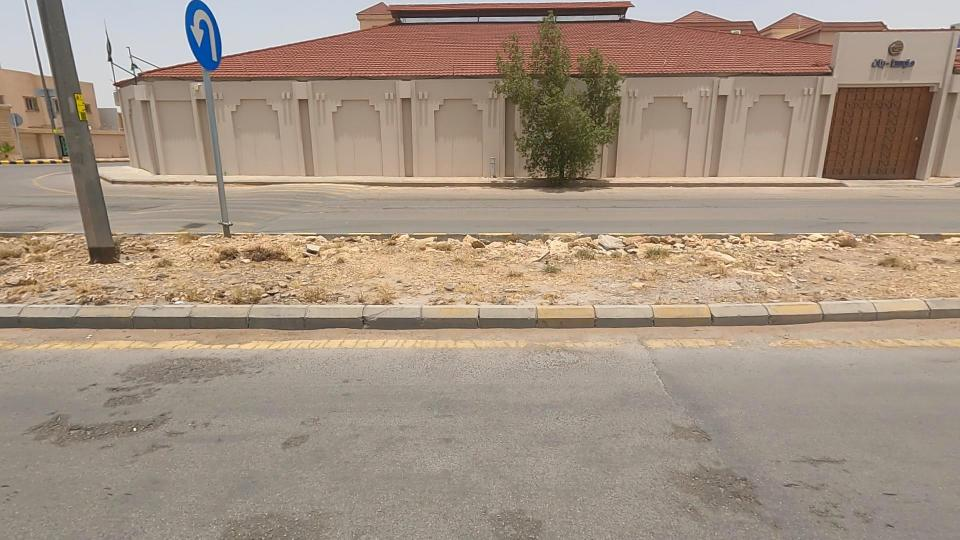CLUTTER_SIDEWALK: (406, 181, 960, 354), (161, 181, 671, 356)
